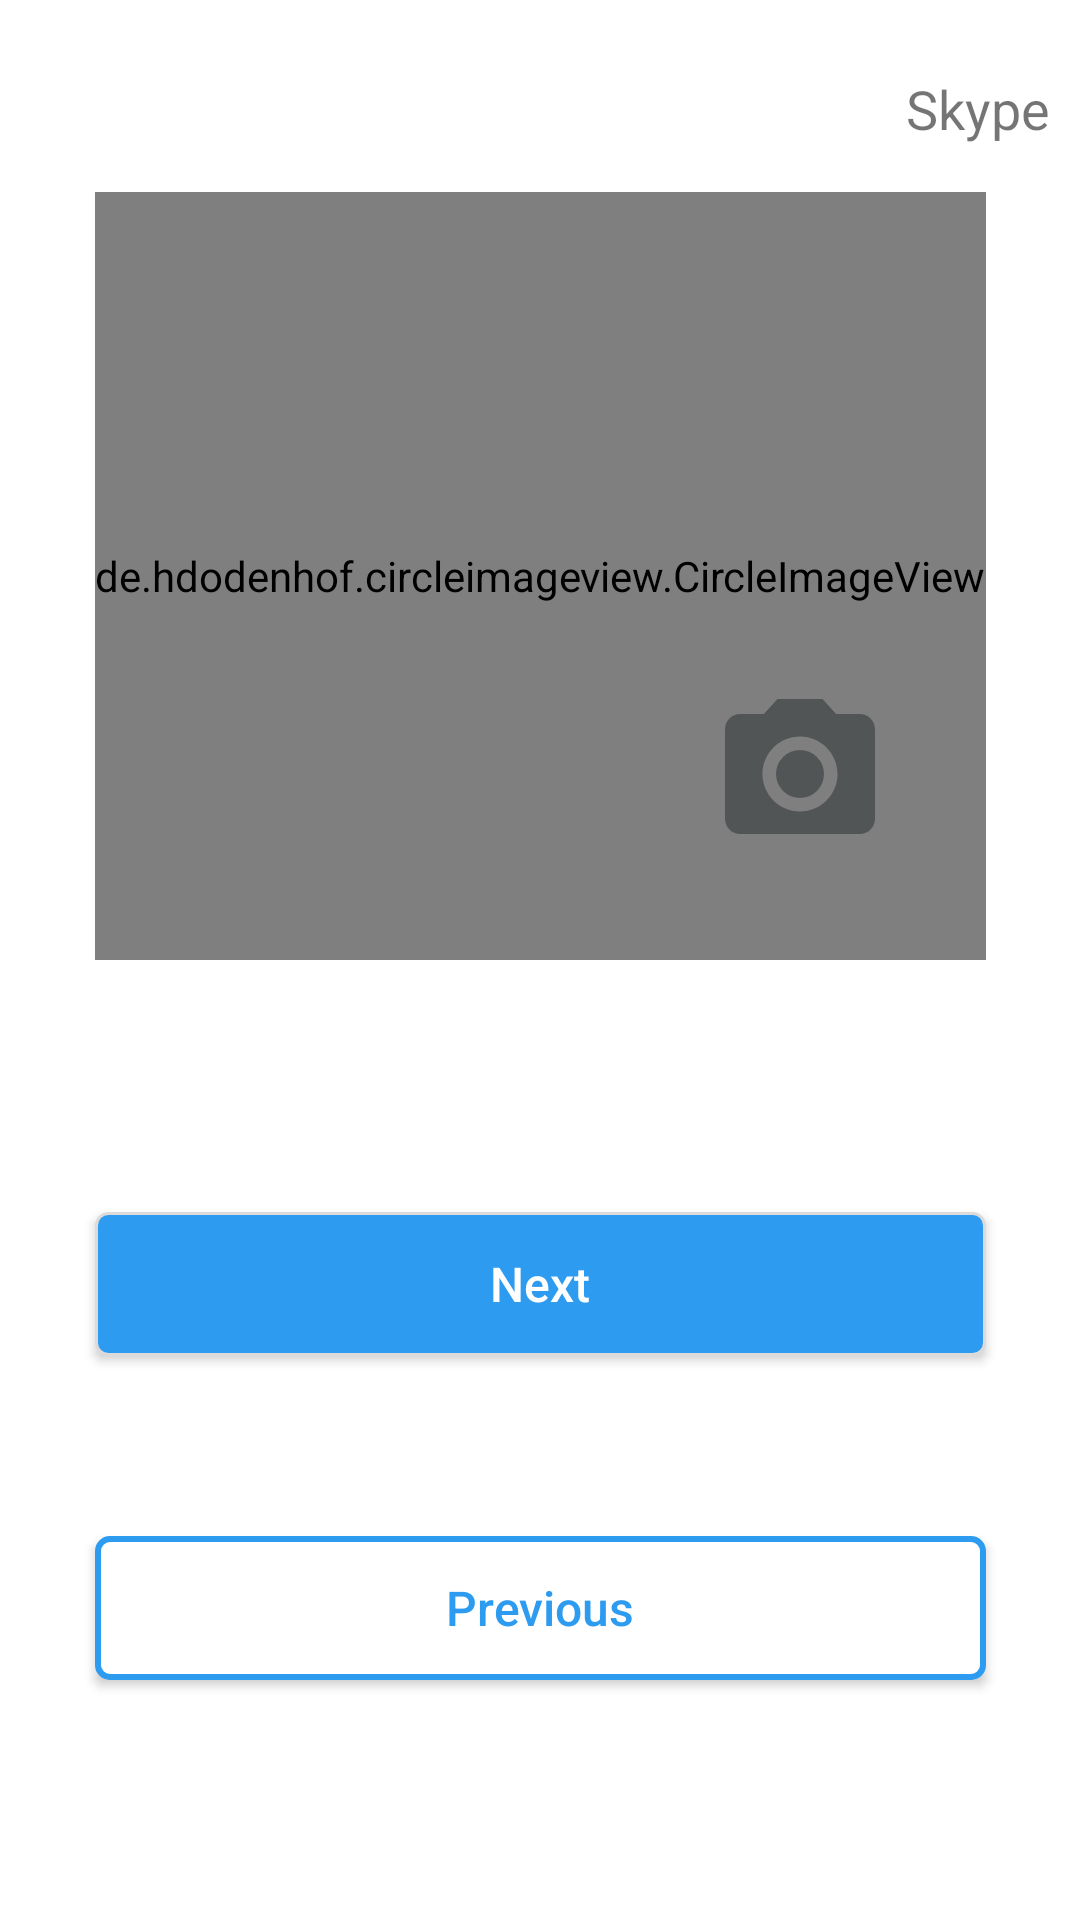

Named icons in this screenshot (1080w x 1920h) and their centers, point (x, y):
photo camera: point (800, 766)
